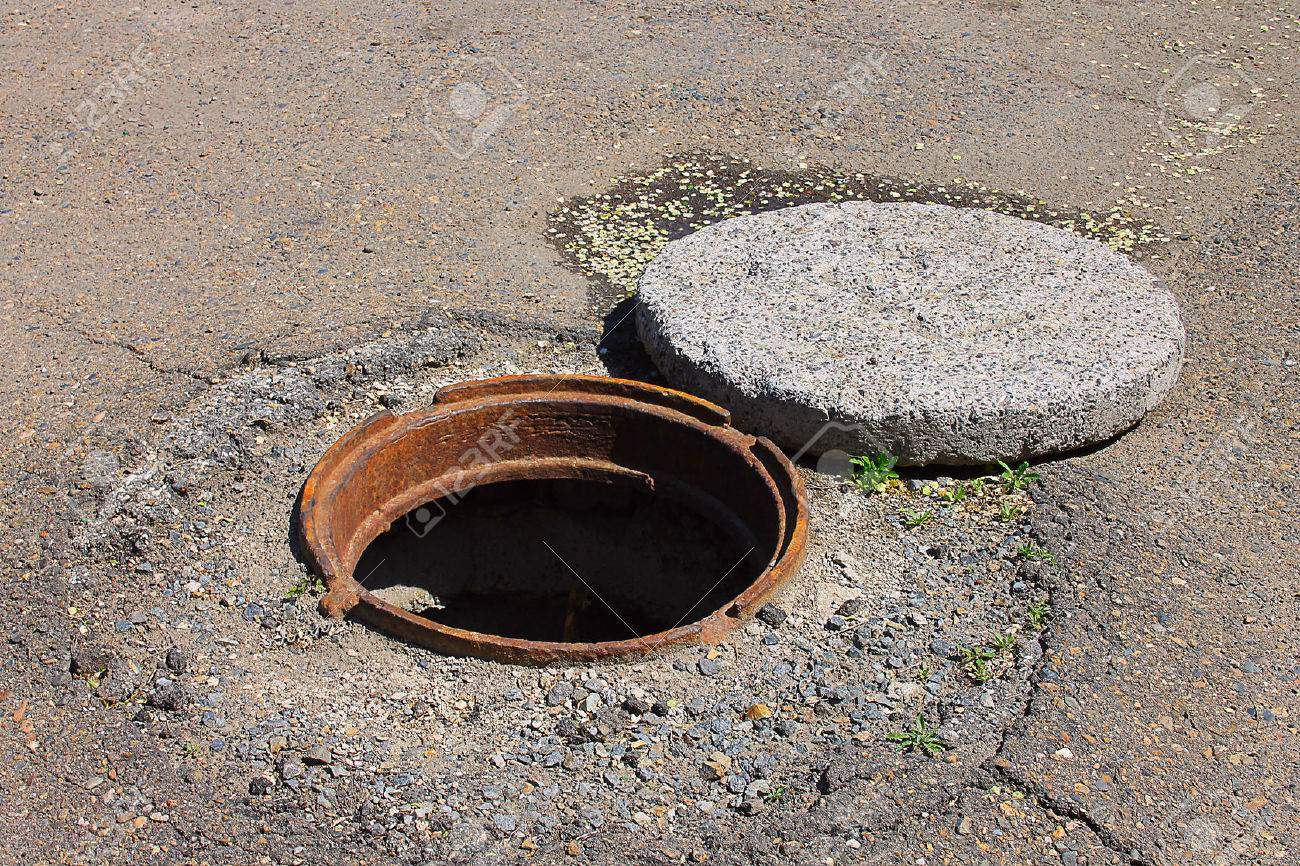Open_manhole: (229, 169, 1189, 693)
